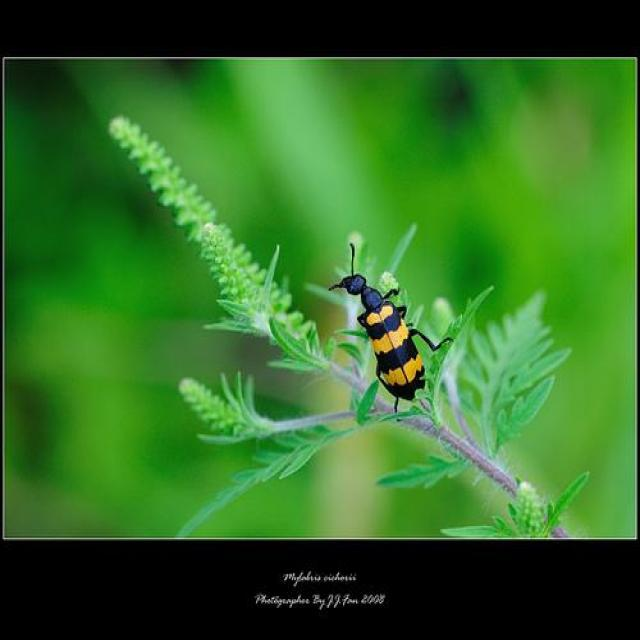BlisterBeetle-Adult-: (321, 243, 455, 423)
